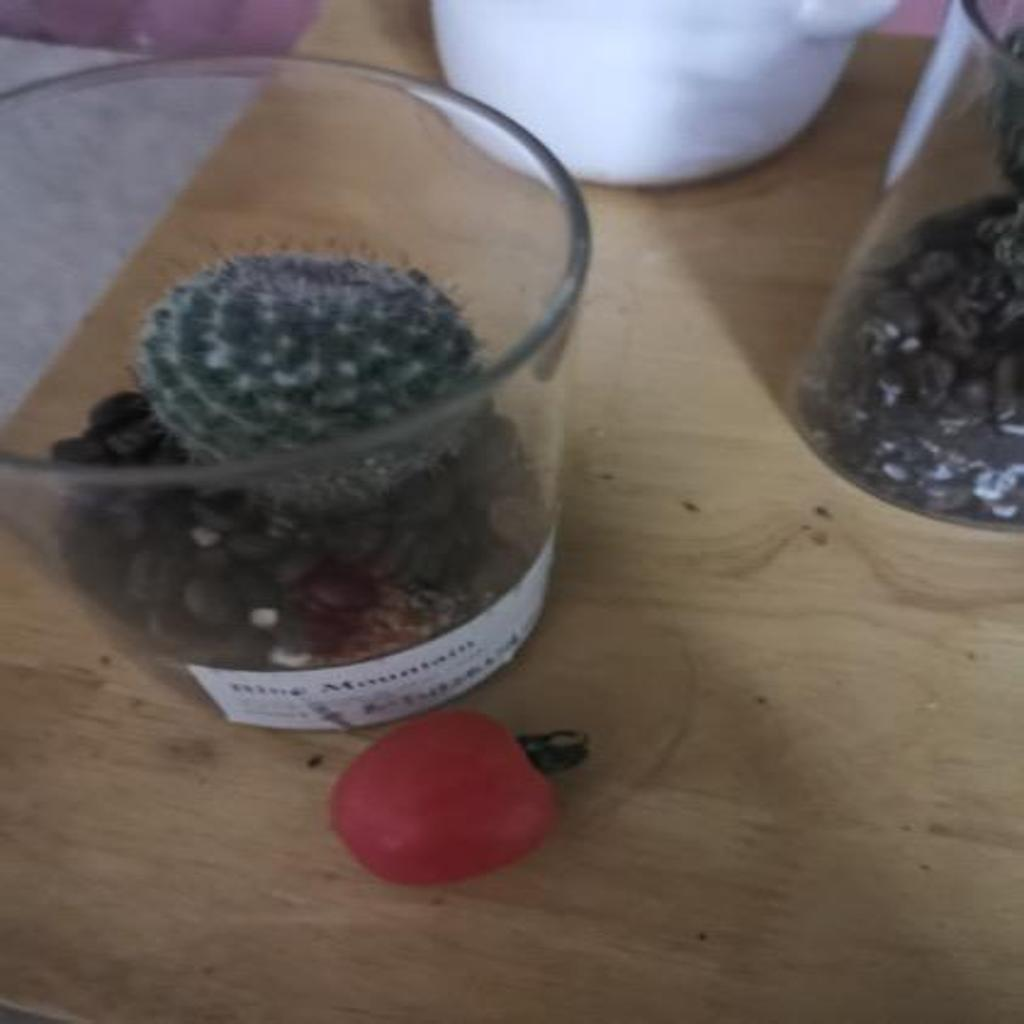tomato: (320, 714, 579, 884)
